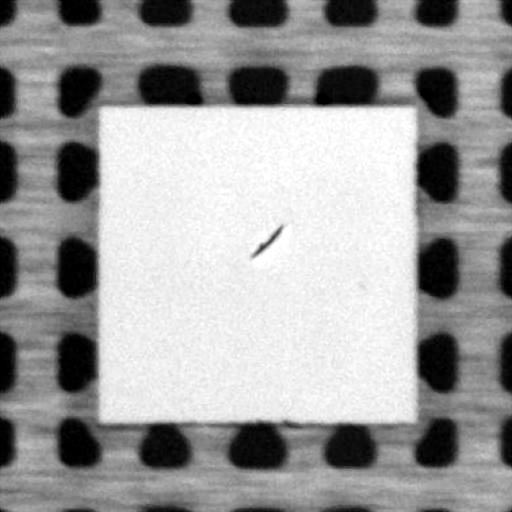DIE_INK: (248, 223, 283, 258)
